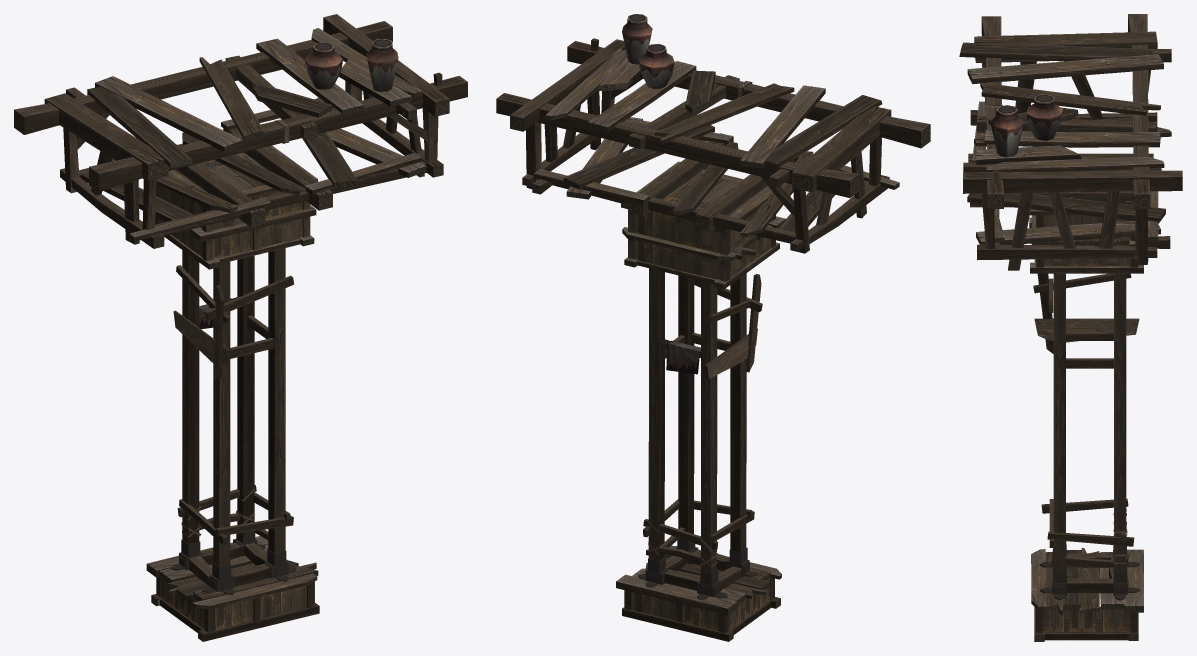
The model's file is 2_DXSD_GaoMuJiaZi_01.FBX.
3 renders of one model, left to right at view 1: azimuth 30°, elevation 25°; view 2: azimuth 150°, elevation 25°; view 3: azimuth 270°, elevation 25°, orthographic. The views are drawn at different scales.
Parts seen in each view (by area): view 1: 2_DXSD_GaoMuJiaZi_01, 2_DXSD_GaoMuJiaZi_02; view 2: 2_DXSD_GaoMuJiaZi_01, 2_DXSD_GaoMuJiaZi_02; view 3: 2_DXSD_GaoMuJiaZi_01, 2_DXSD_GaoMuJiaZi_02.
Part boxes in pixels (box(x1,y1,x2,y2)): 2_DXSD_GaoMuJiaZi_01: box(14, 14, 467, 641); 2_DXSD_GaoMuJiaZi_02: box(304, 39, 398, 91); 2_DXSD_GaoMuJiaZi_01: box(496, 38, 930, 641); 2_DXSD_GaoMuJiaZi_02: box(622, 14, 674, 88); 2_DXSD_GaoMuJiaZi_01: box(959, 14, 1182, 641); 2_DXSD_GaoMuJiaZi_02: box(990, 94, 1062, 157).
Size of the model in its own units: 523 by 764 by 278.
1 material, 1 textured.
